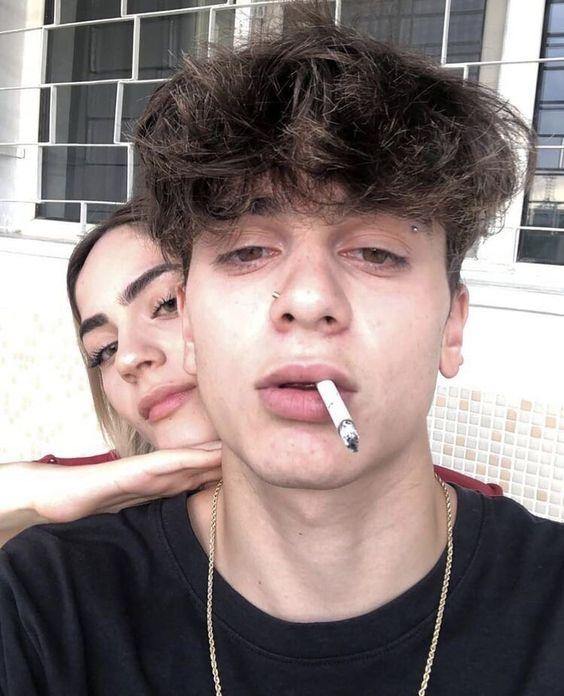cigarette: (318, 379, 359, 451)
